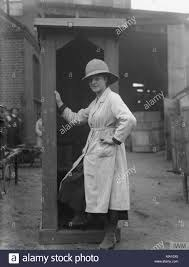person without safety: (48, 57, 140, 251)
